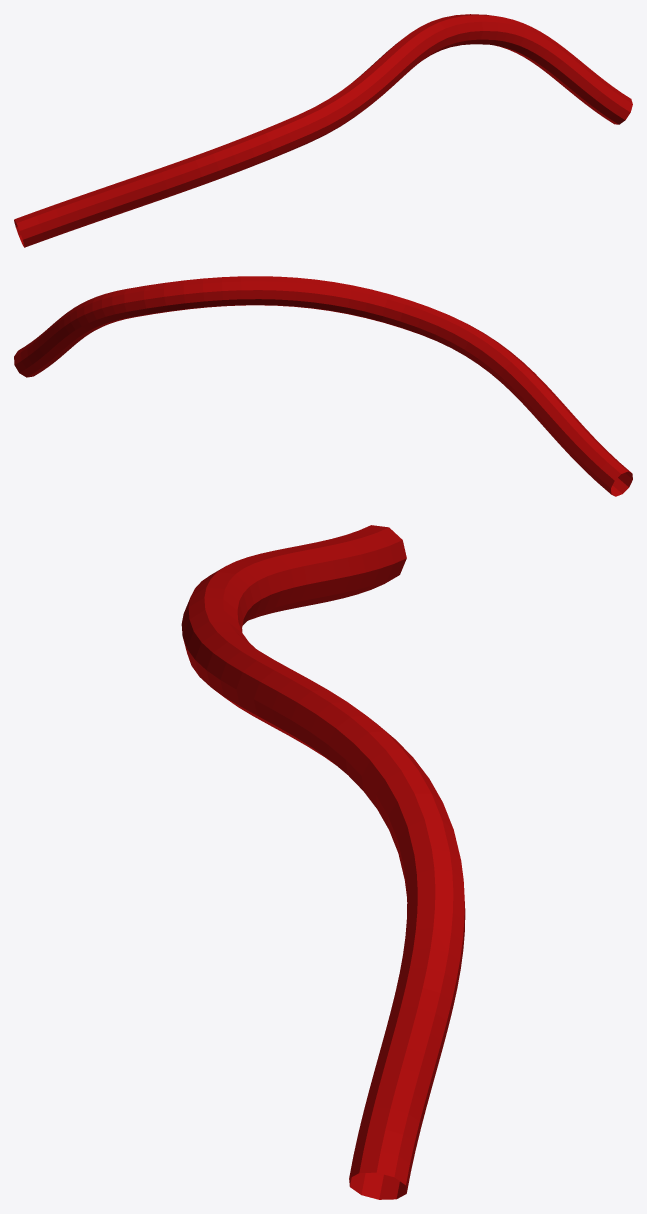
The model's file is left_motor_wire_plus.dae.
The picture shows the model from 3 angles, top to bottom: view 1: azimuth 30°, elevation 25°; view 2: azimuth 150°, elevation 25°; view 3: azimuth 270°, elevation 25°; orthographic projection. The views are drawn at different scales.
Parts seen in each view (by area): view 1: left_motor_wire_plus; view 2: left_motor_wire_plus; view 3: left_motor_wire_plus.
Part boxes in pixels (left/top/right/bottom): left_motor_wire_plus: left=14, top=14, right=632, bottom=247; left_motor_wire_plus: left=14, top=276, right=632, bottom=496; left_motor_wire_plus: left=181, top=525, right=465, bottom=1199.
Bounding box in the file's own units: 0.0256 × 0.00515 × 0.00577.
